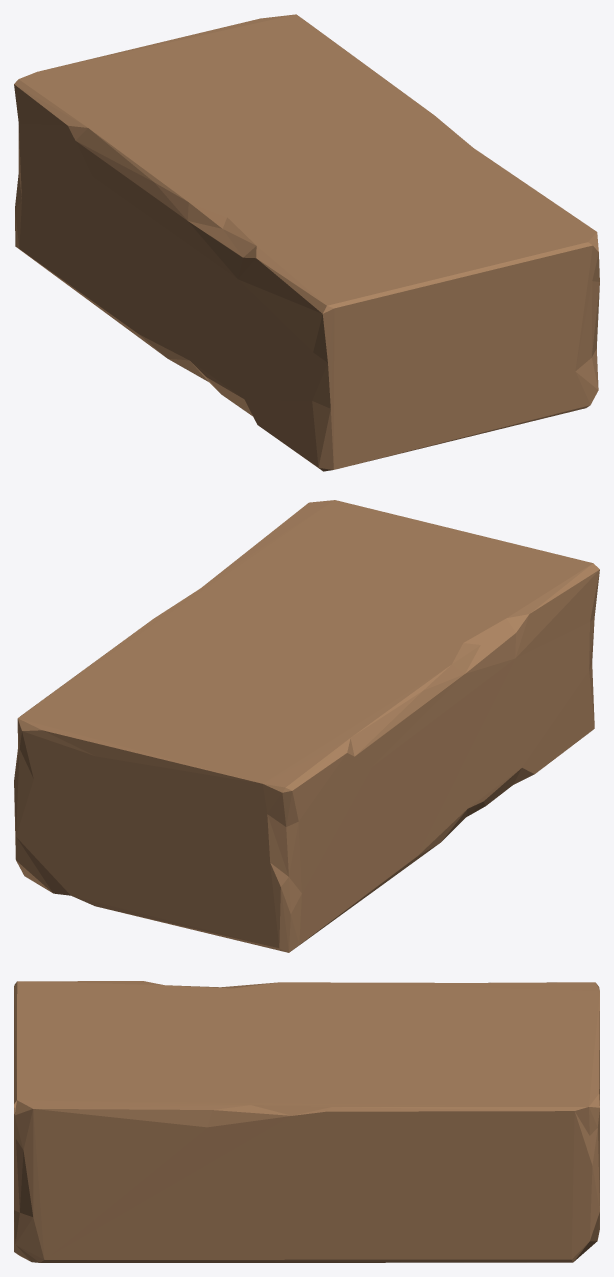
File: SM_large_brick_02.fbx
The picture shows the model from 3 angles, top to bottom: view 1: azimuth 30°, elevation 25°; view 2: azimuth 150°, elevation 25°; view 3: azimuth 270°, elevation 25°; orthographic projection. The views are drawn at different scales.
Parts seen in each view (by area): view 1: large_brick_02; view 2: large_brick_02; view 3: large_brick_02.
Boxes of the visible parts, bbox=[...] form: large_brick_02: bbox=[14, 14, 599, 471]; large_brick_02: bbox=[14, 500, 599, 952]; large_brick_02: bbox=[14, 981, 599, 1262].
Bounding box in the file's own units: 142 × 80.48 × 271.
